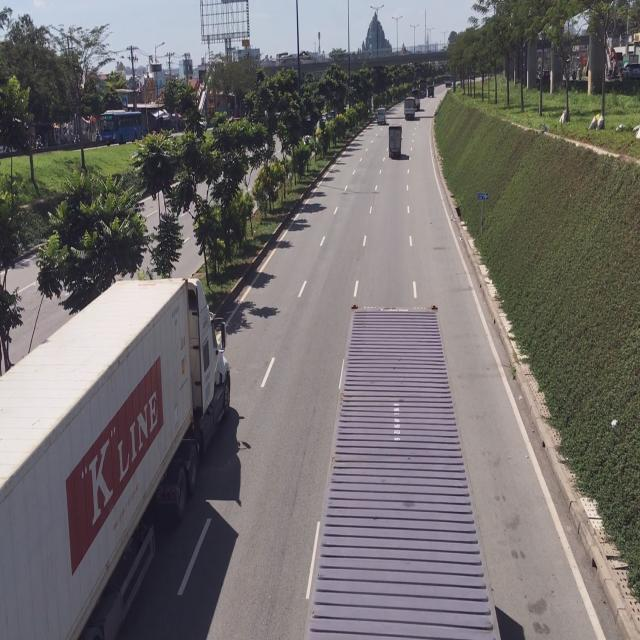truck: (0, 279, 232, 640), (309, 304, 500, 640), (387, 121, 401, 161), (404, 95, 418, 120)
